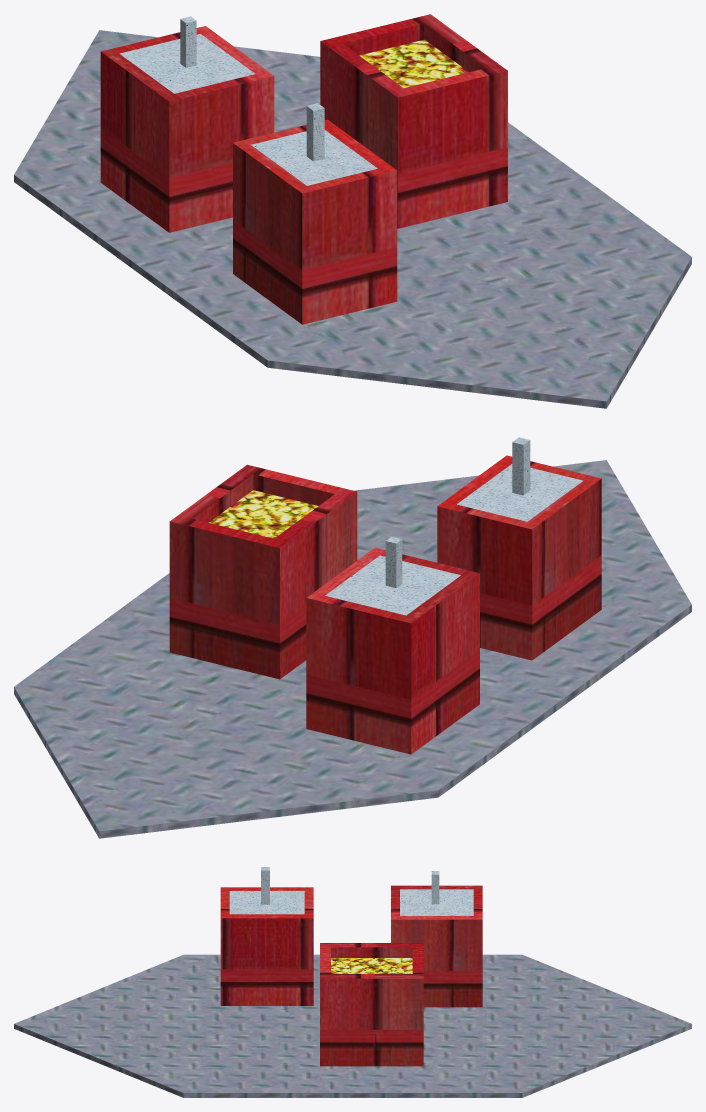
Rendered from popcornand drink.dae.
3 views of the same model, one above another, from view 1: azimuth 30°, elevation 25°; view 2: azimuth 150°, elevation 25°; view 3: azimuth 270°, elevation 25° (orthographic). The views are drawn at different scales.
Parts seen in each view (by area): view 1: SketchUp, SketchUp_005, SketchUp_007, SketchUp_006, SketchUp_008, SketchUp_013, SketchUp_009, SketchUp_010, SketchUp_012, SketchUp_011; view 2: SketchUp, SketchUp_006, SketchUp_007, SketchUp_005, SketchUp_008, SketchUp_013, SketchUp_009, SketchUp_010, SketchUp_012, SketchUp_011; view 3: SketchUp, SketchUp_007, SketchUp_005, SketchUp_006, SketchUp_008, SketchUp_013, SketchUp_009, SketchUp_010.
Boxes of the visible parts, bbox=[...] form: SketchUp: bbox=[14, 30, 691, 408]; SketchUp_005: bbox=[233, 119, 397, 324]; SketchUp_007: bbox=[320, 14, 507, 228]; SketchUp_006: bbox=[100, 26, 274, 232]; SketchUp_008: bbox=[119, 34, 254, 93]; SketchUp_013: bbox=[251, 130, 377, 185]; SketchUp_009: bbox=[359, 39, 468, 87]; SketchUp_010: bbox=[343, 23, 484, 72]; SketchUp_012: bbox=[306, 103, 324, 161]; SketchUp_011: bbox=[180, 16, 196, 67]; SketchUp: bbox=[14, 460, 691, 838]; SketchUp_006: bbox=[306, 547, 479, 754]; SketchUp_007: bbox=[169, 464, 357, 679]; SketchUp_005: bbox=[437, 455, 601, 660]; SketchUp_008: bbox=[325, 555, 460, 615]; SketchUp_013: bbox=[457, 464, 582, 521]; SketchUp_009: bbox=[209, 490, 318, 538]; SketchUp_010: bbox=[192, 474, 334, 522]; SketchUp_012: bbox=[512, 437, 530, 495]; SketchUp_011: bbox=[385, 537, 402, 588]; SketchUp: bbox=[14, 954, 691, 1097]; SketchUp_007: bbox=[320, 943, 423, 1066]; SketchUp_005: bbox=[220, 887, 313, 1005]; SketchUp_006: bbox=[391, 885, 482, 1007]; SketchUp_008: bbox=[400, 889, 473, 915]; SketchUp_013: bbox=[229, 891, 304, 914]; SketchUp_009: bbox=[331, 958, 412, 973]; SketchUp_010: bbox=[331, 947, 412, 957].
Size of the model in its own units: 0.7249 by 1.5 by 0.4456.
Materials: 4 (4 with a texture image).
